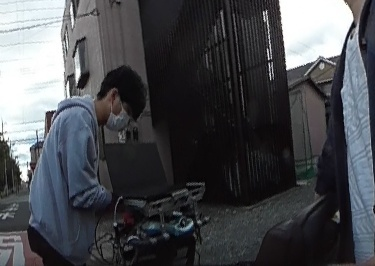person: (25, 68, 141, 266)
